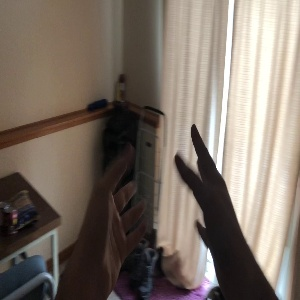hand: (175, 124, 267, 291), (70, 142, 149, 290)
